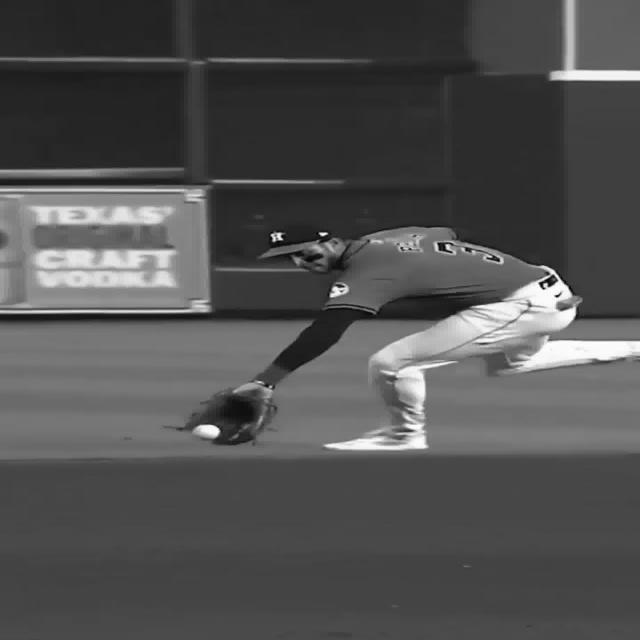baseball: (191, 424, 221, 440)
baseball_glove: (170, 381, 278, 445)
shoe: (322, 429, 428, 451)
